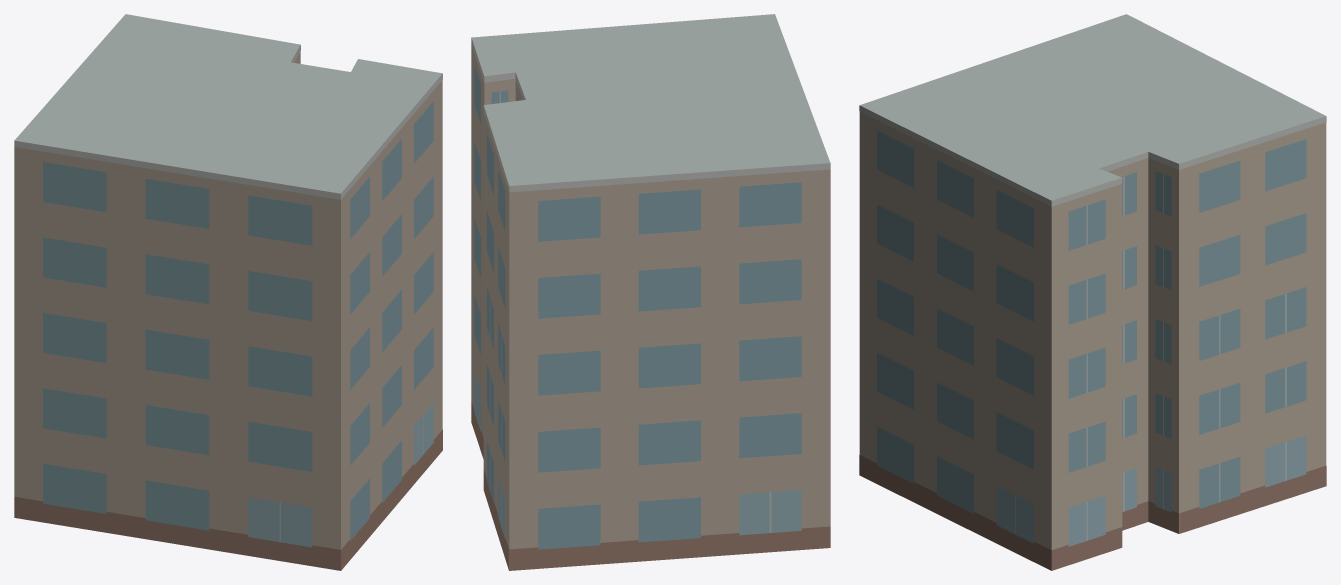
The model's file is survey-upis-32963852.glb.
The picture shows the model from 3 angles, left to right: view 1: azimuth 30°, elevation 25°; view 2: azimuth 150°, elevation 25°; view 3: azimuth 270°, elevation 25°; orthographic projection. The views are drawn at different scales.
Parts seen in each view (by area): view 1: survey-upis-32963852.tmp; view 2: survey-upis-32963852.tmp; view 3: survey-upis-32963852.tmp.
Boxes of the visible parts, x1=… form: survey-upis-32963852.tmp: x1=14, y1=14, x2=442, y2=570; survey-upis-32963852.tmp: x1=471, y1=14, x2=830, y2=570; survey-upis-32963852.tmp: x1=859, y1=14, x2=1326, y2=570.
Size of the model in its own units: 16.09 by 14.85 by 16.99.
